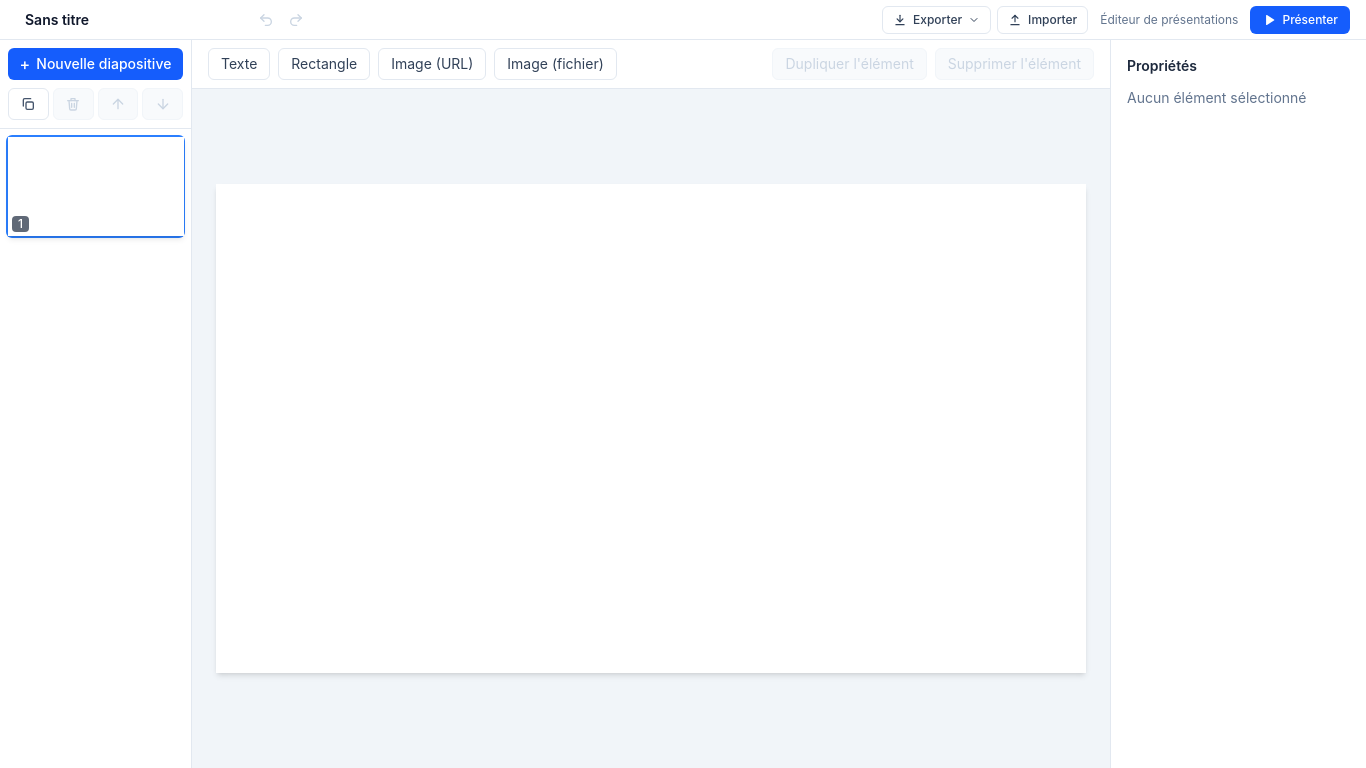
EditorLayout : ce qu'une annulation défait › modifier le texte puis annuler restaure l'ancien texte
The width and height of the screenshot is (1366, 768).
Click the button "Texte": (239,64) [208, 48, 270, 80]
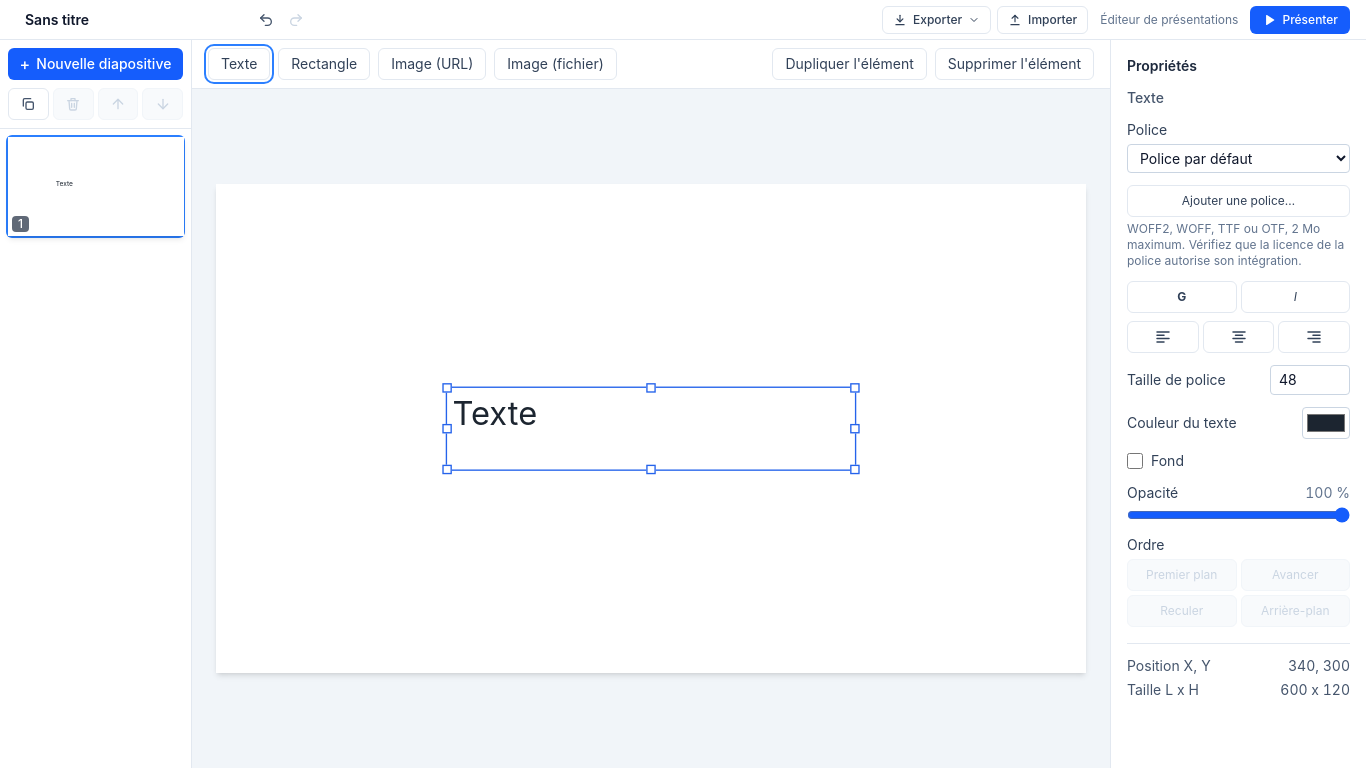
Double-click the 2nd text "Texte": (495,413) [452, 393, 537, 433]
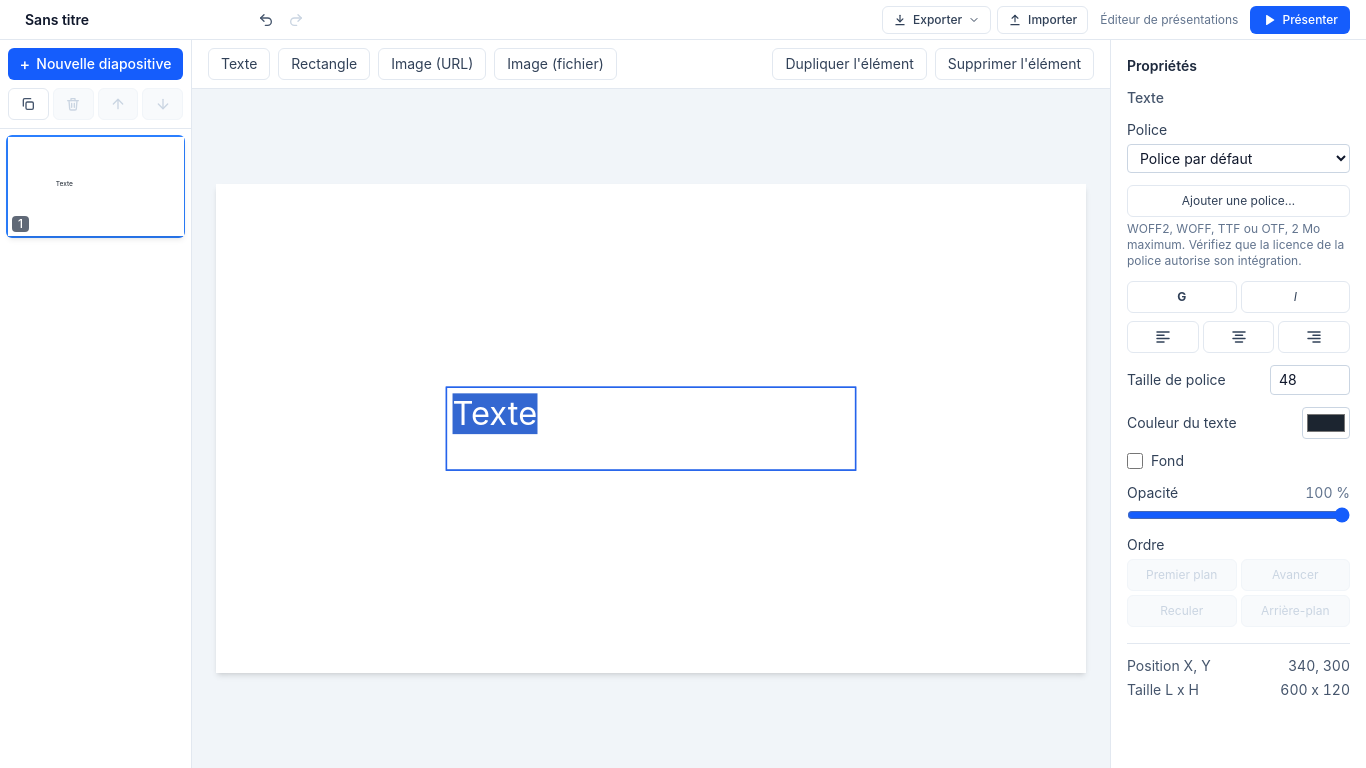
Type keys "Bonjour{Control>}{Enter}{/Control}"
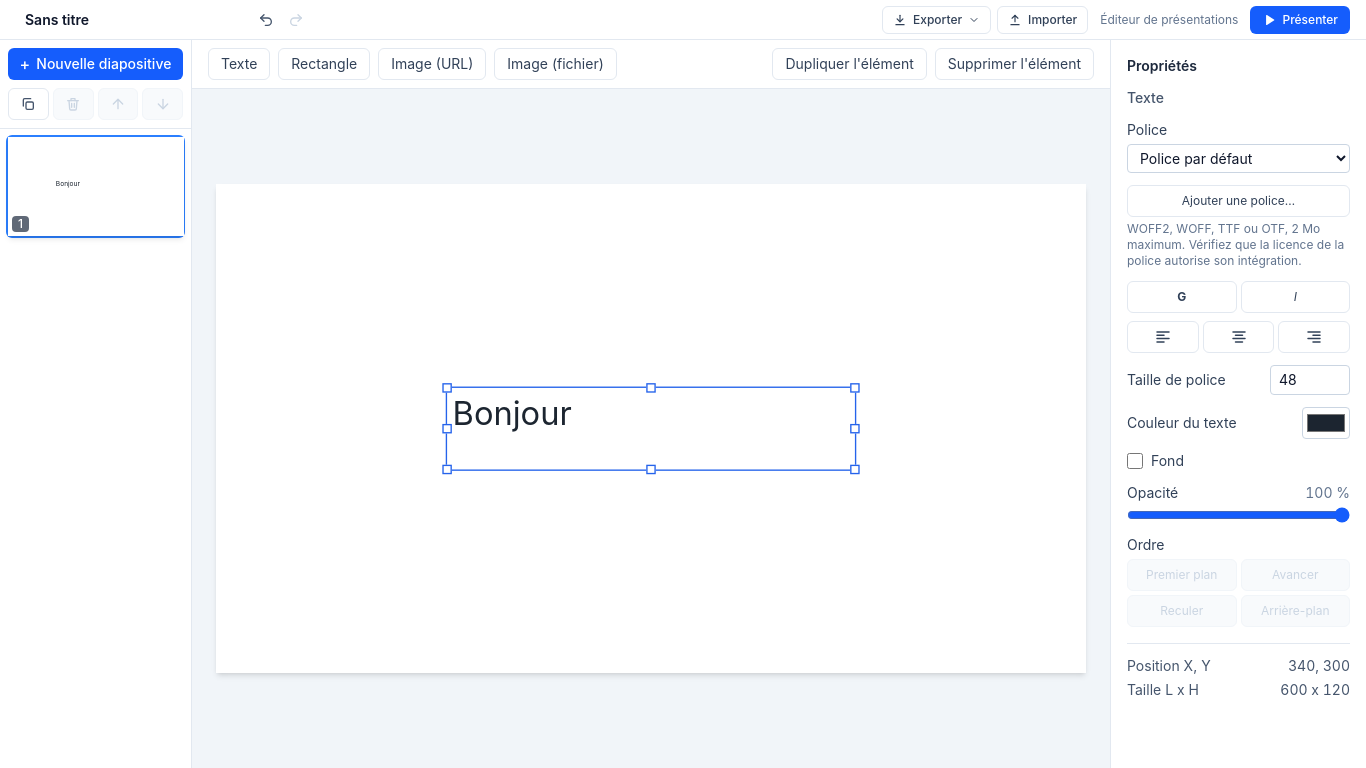
Check: the 2nd text "Bonjour" is shown, box [452, 393, 572, 433]
Click the button named "Annuler": (266,20) [252, 6, 280, 34]
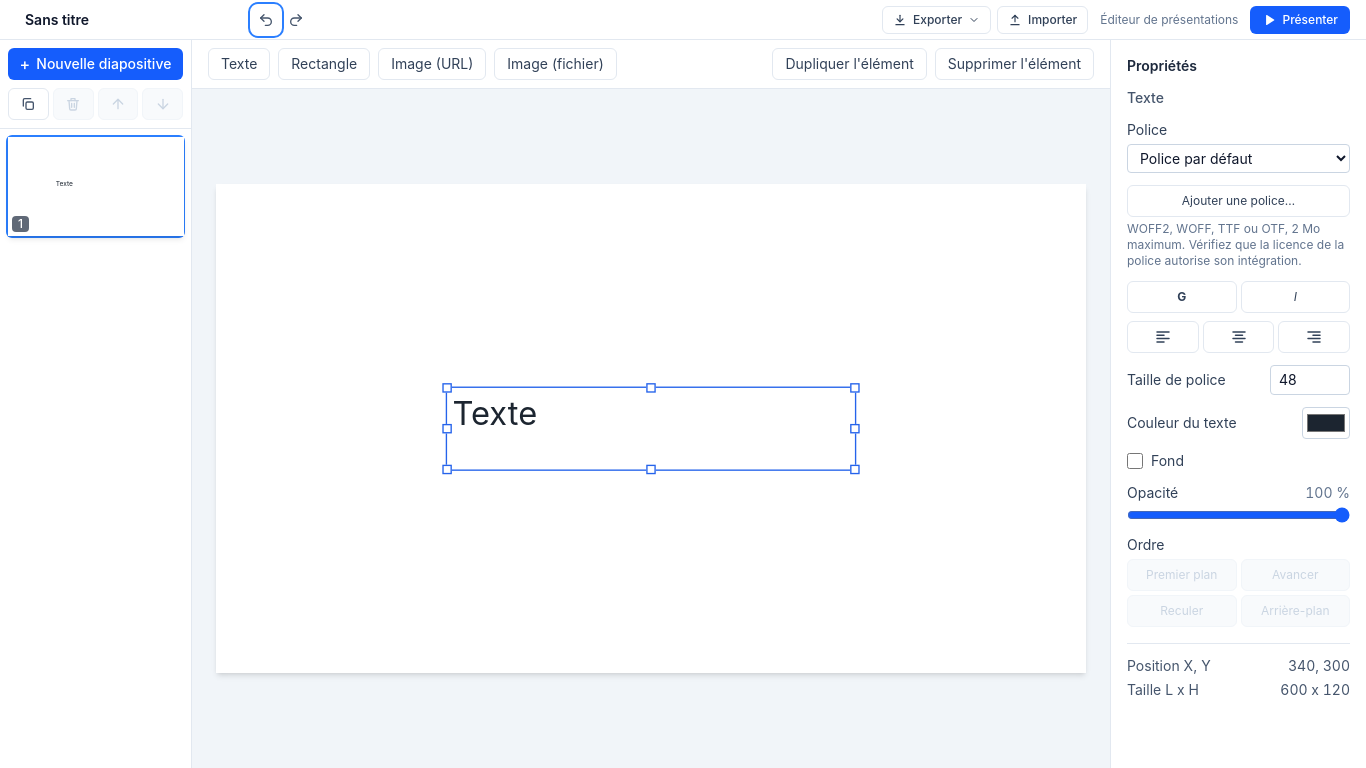
Check: the 2nd text "Texte" is shown, box [452, 393, 537, 433]
Check: the button "Bonjour" is gone
